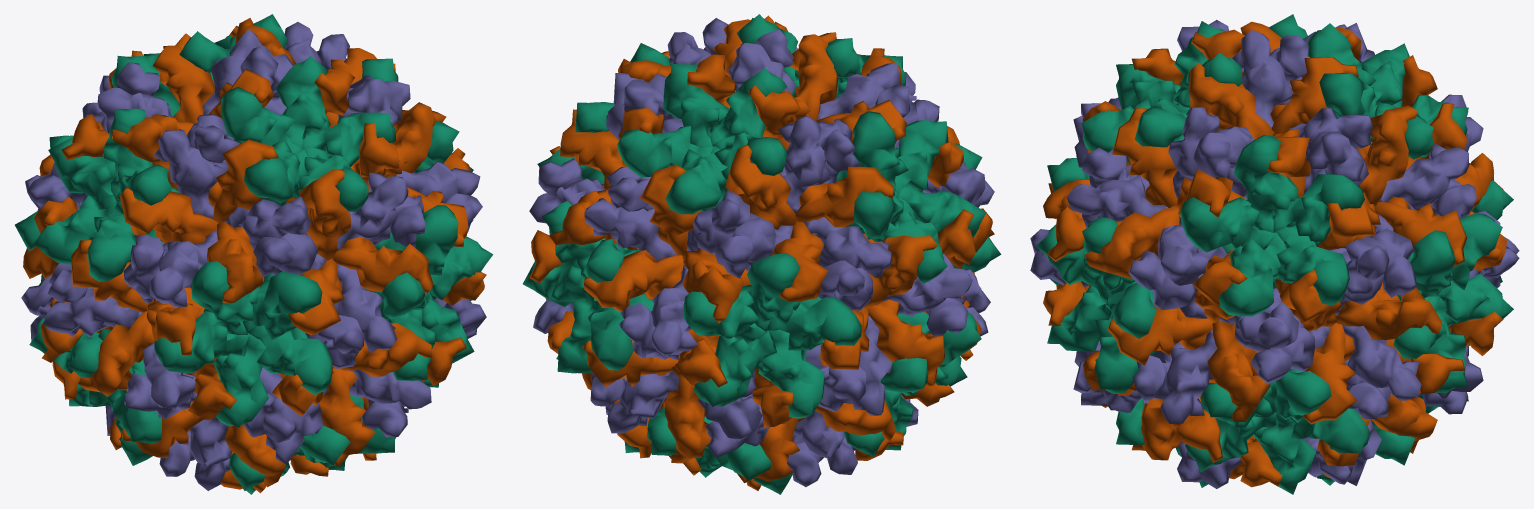
Rendered from 1IHM.glb.
3 renders of one model, left to right at view 1: azimuth 30°, elevation 25°; view 2: azimuth 150°, elevation 25°; view 3: azimuth 270°, elevation 25°, orthographic. The views are drawn at different scales.
Size of the model in its own units: 410 by 410 by 410.
